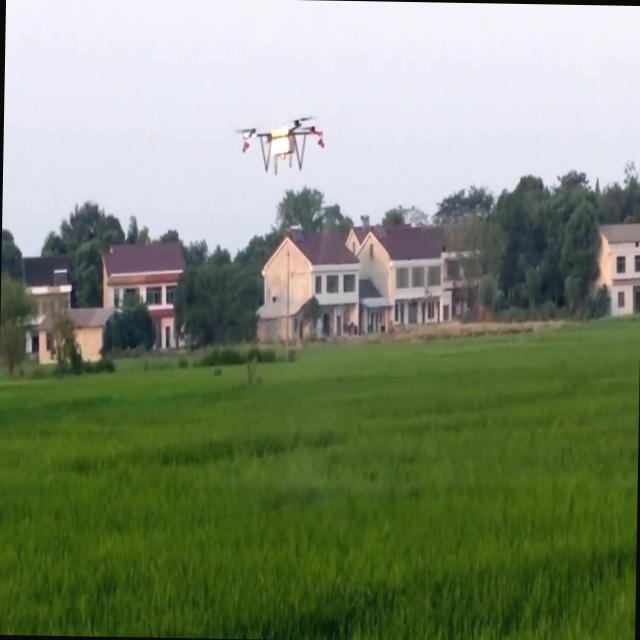drone: (236, 114, 324, 178)
